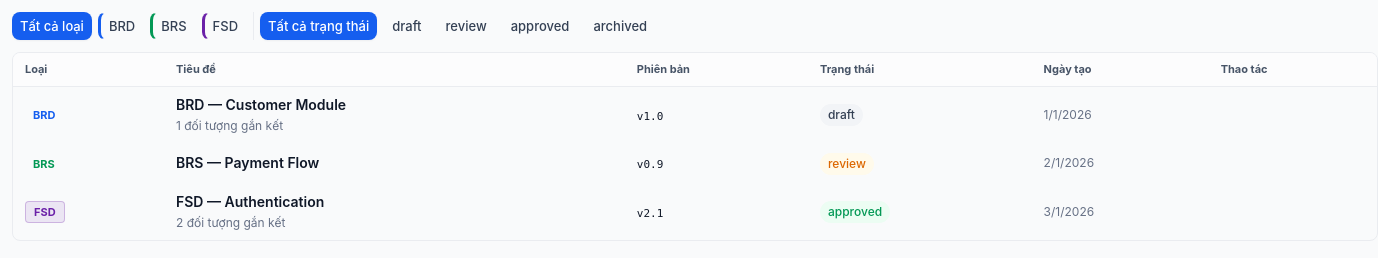
Test: BADocumentList › filters by status
Click the button "approved". click: (540, 26)
box: [502,12,578,40]
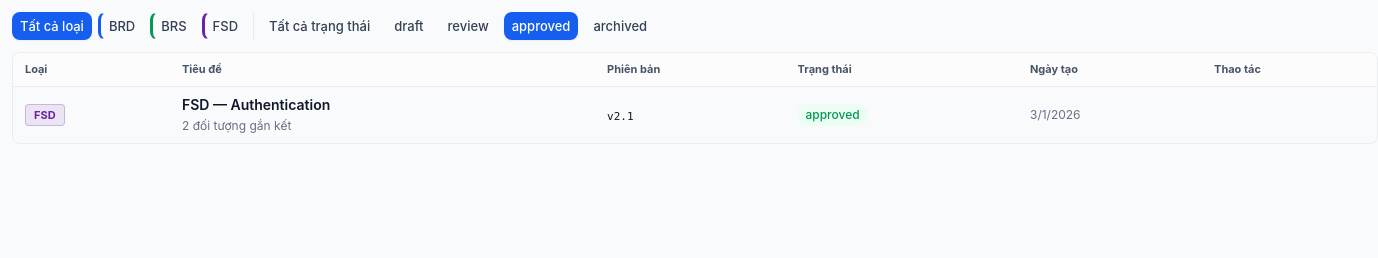
Check: the text "FSD — Authentication" is shown, box [182,96,330,112]
Check: the text "BRD — Customer Module" is gone
